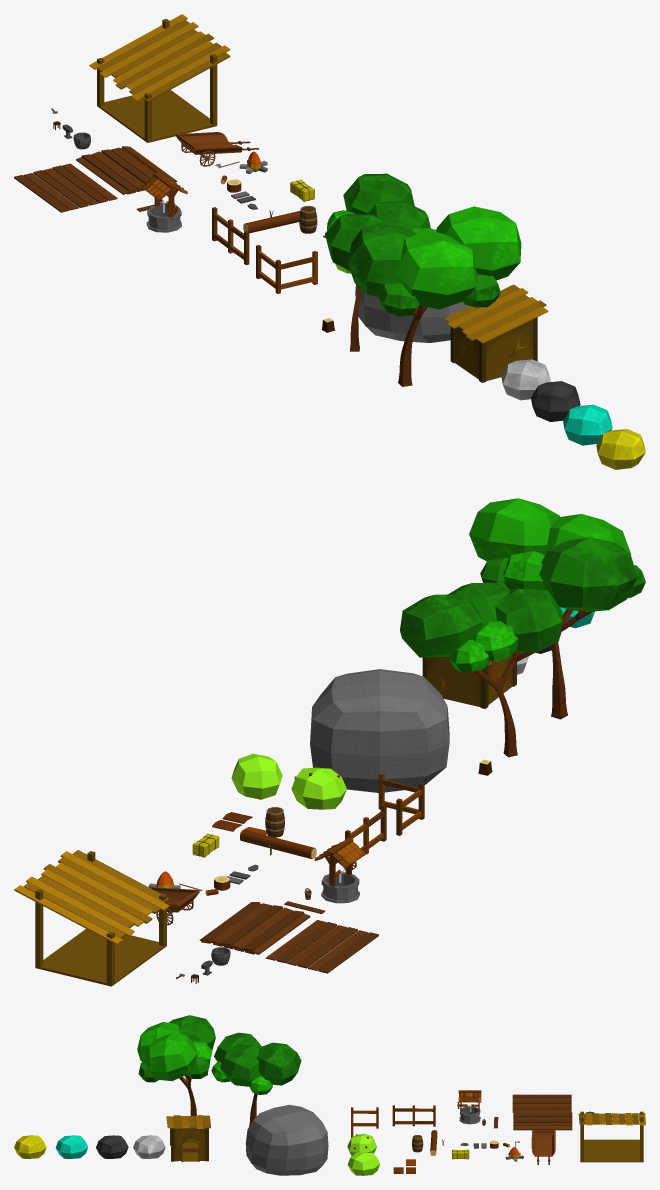
Rendered from Environmental elements.fbx.
3 views of the same model, one above another, from view 1: azimuth 30°, elevation 25°; view 2: azimuth 150°, elevation 25°; view 3: azimuth 270°, elevation 25° (orthographic). The views are drawn at different scales.
Visible parts, largest first — view 1: Plane.014, Cube.2087, Plane.015, Cube.2086, Cube.2076, Cube.2077, Cube.2079, Cube.2096, Cube.2097, Cube.2106, Cube.2107, Cube.2108 (+6 smaller); view 2: Plane.014, Cube.2079, Plane.015, Cube.2087, Cube.2086, Cube.2096, Cube.2097, Cube.2076, Cube.2110, Cube.2111, Circle.072, Cube.2089 (+2 smaller); view 3: Cube.2079, Plane.014, Plane.015, Cube.2086, Cube.2096, Cube.2097, Cube.2076, Cube.2087, Cube.2090, Cube.2111, Cube.2108, Cube.2106 (+8 smaller).
Part boxes in pixels (x1,y1,x2,y2): Plane.014: (347, 206, 521, 386); Cube.2087: (89, 14, 230, 101); Plane.015: (325, 173, 430, 351); Cube.2086: (97, 19, 217, 142); Cube.2076: (450, 317, 537, 382); Cube.2077: (444, 284, 548, 343); Cube.2079: (355, 285, 469, 342); Cube.2096: (14, 163, 117, 212); Cube.2097: (76, 146, 177, 194); Cube.2106: (596, 429, 645, 469); Cube.2107: (563, 404, 612, 445); Cube.2108: (531, 381, 580, 421); Plane.014: (469, 498, 645, 719); Cube.2079: (310, 669, 449, 792); Plane.015: (400, 582, 562, 757); Cube.2087: (14, 850, 169, 944); Cube.2086: (35, 851, 166, 986); Cube.2096: (266, 920, 378, 973); Cube.2097: (200, 902, 310, 954); Cube.2076: (422, 651, 516, 708); Cube.2110: (291, 767, 346, 809); Cube.2111: (231, 753, 282, 799); Circle.072: (321, 837, 359, 903); Cube.2089: (378, 773, 424, 835); Cube.2079: (245, 1104, 328, 1175); Plane.014: (137, 1015, 215, 1115); Plane.015: (211, 1032, 301, 1126); Cube.2086: (580, 1111, 643, 1162); Cube.2096: (512, 1094, 571, 1112); Cube.2097: (513, 1112, 572, 1130); Cube.2076: (170, 1117, 208, 1161); Cube.2087: (578, 1113, 645, 1125); Cube.2090: (532, 1130, 555, 1164); Cube.2111: (347, 1152, 379, 1175); Cube.2108: (96, 1135, 128, 1158); Cube.2106: (14, 1135, 46, 1158).
Bounding box in the file's own units: 398 × 290 × 1378.
